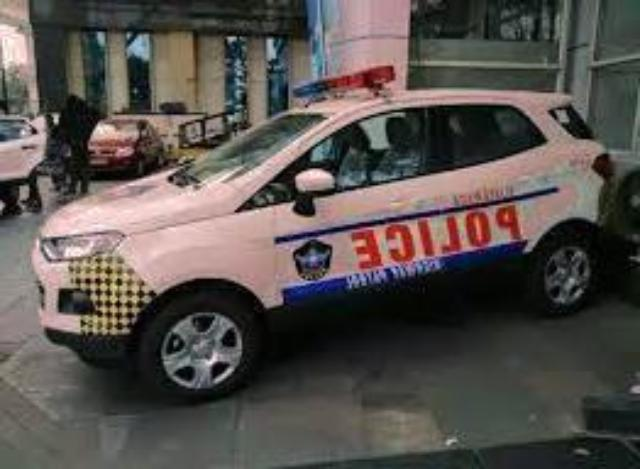police_car: (29, 68, 606, 398)
